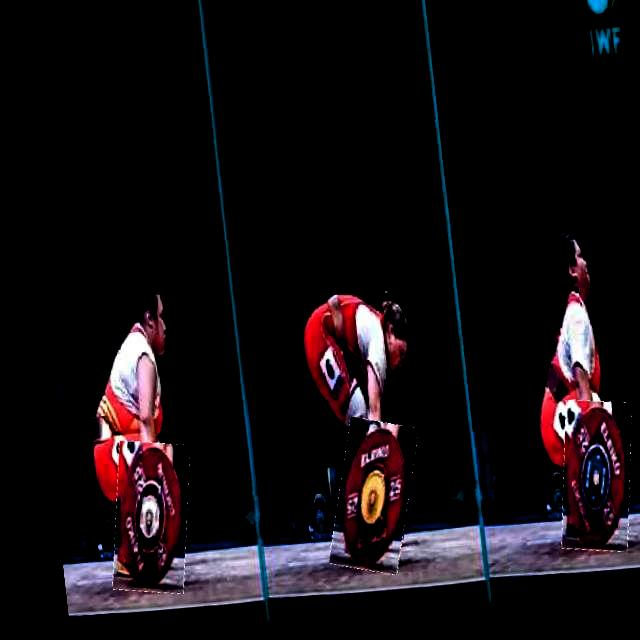barbell: (312, 422, 412, 582), (93, 442, 187, 599), (542, 409, 629, 565)
